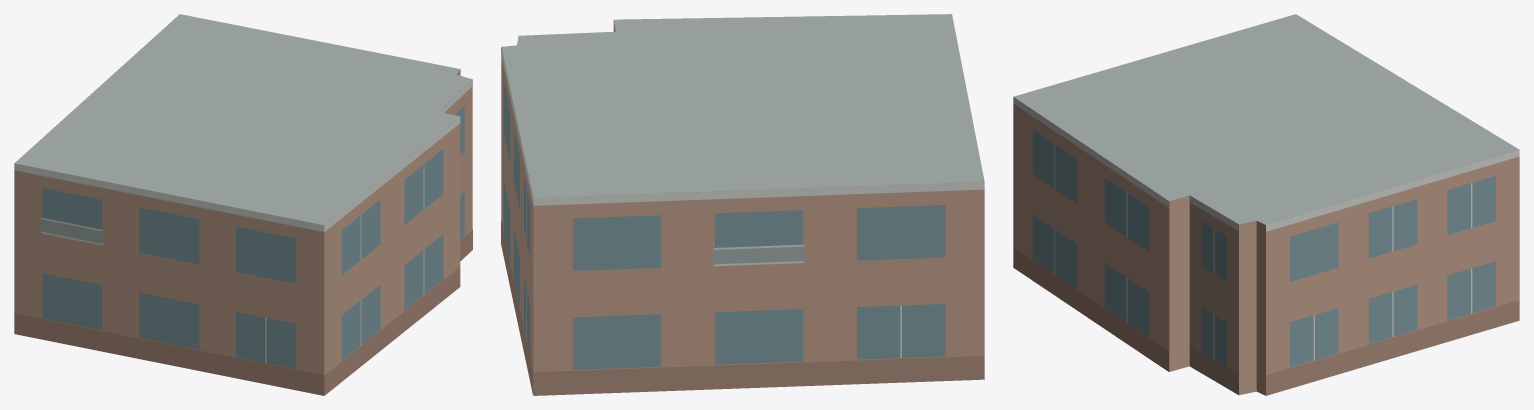
File: survey-upis-32624872.glb
3 views of the same model, side by side, from view 1: azimuth 30°, elevation 25°; view 2: azimuth 150°, elevation 25°; view 3: azimuth 270°, elevation 25° (orthographic). The views are drawn at different scales.
Visible parts, largest first — view 1: survey-upis-32624872.tmp; view 2: survey-upis-32624872.tmp; view 3: survey-upis-32624872.tmp.
Boxes of the visible parts, x1=… form: survey-upis-32624872.tmp: x1=14, y1=14, x2=472, y2=395; survey-upis-32624872.tmp: x1=501, y1=14, x2=984, y2=395; survey-upis-32624872.tmp: x1=1013, y1=14, x2=1519, y2=395.
Bounding box in the file's own units: 16.16 × 6.1 × 16.39.
